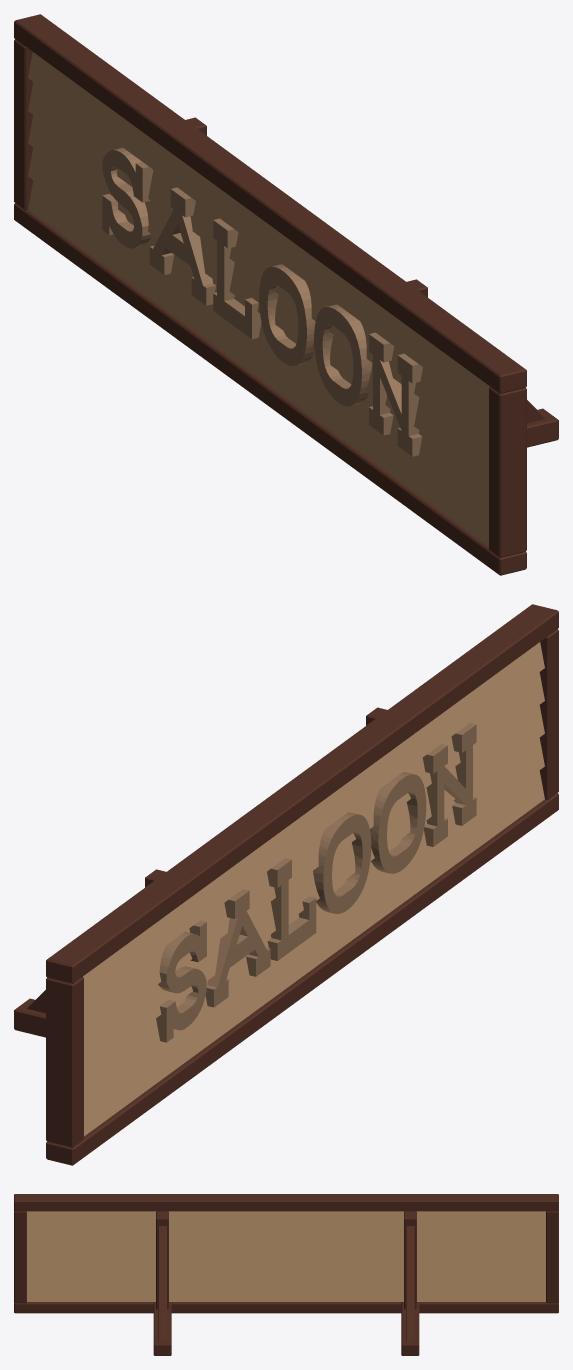
File: Saloon Sign A.glb
3 renders of one model, top to bottom at view 1: azimuth 30°, elevation 25°; view 2: azimuth 150°, elevation 25°; view 3: azimuth 270°, elevation 25°, orthographic. The views are drawn at different scales.
Visible parts, largest first — view 1: Saloon Sign A; view 2: Saloon Sign A; view 3: Saloon Sign A.
Part boxes in pixels (x1,y1,x2,y2): Saloon Sign A: [14, 14, 558, 575]; Saloon Sign A: [14, 604, 558, 1165]; Saloon Sign A: [14, 1194, 558, 1355].
Bounding box in the file's own units: 146 × 150 × 660.
